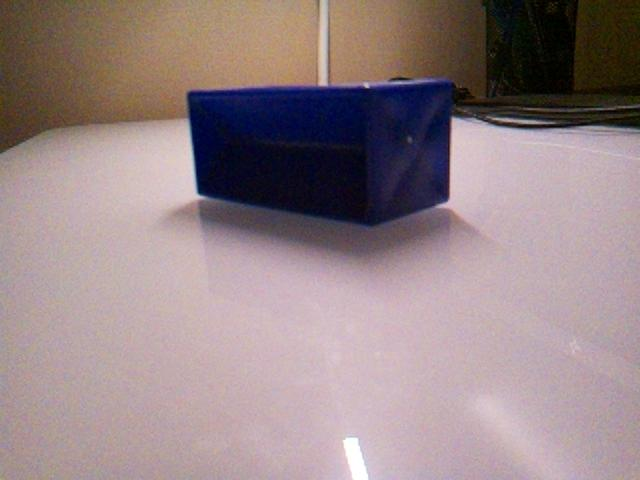blue: (185, 76, 456, 227)
